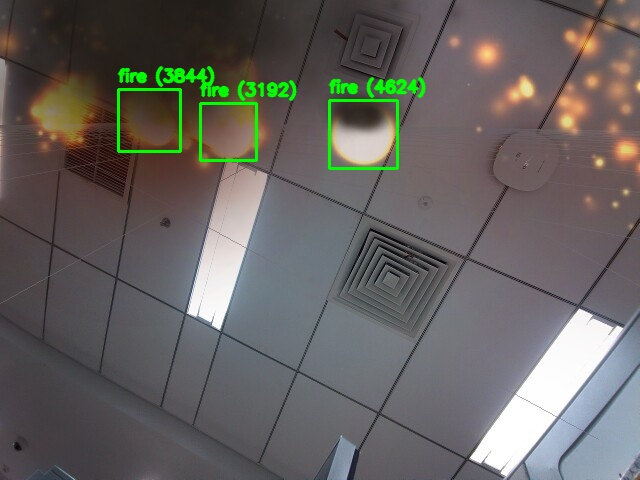fire: (329, 100, 397, 168), (118, 89, 180, 151), (200, 103, 256, 160)
